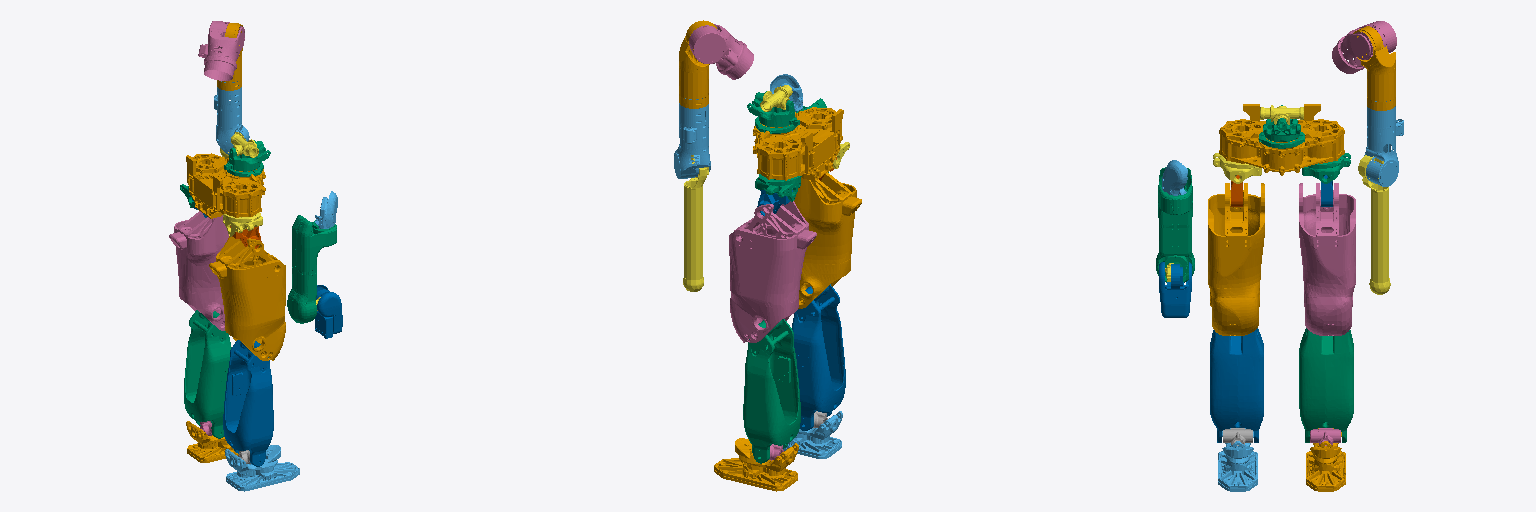
--- Render facts (derived) ---
The picture shows the robot from 3 angles, left to right: view 1: azimuth 30°, elevation 25°; view 2: azimuth 150°, elevation 25°; view 3: azimuth 270°, elevation 25°; orthographic projection.
Robot: nadia — 41 links, 40 joints (30 revolute, 10 fixed); root link PELVIS_LINK; default pose: all joints at 0.
Links seen in each view (by area): view 1: RIGHT_THIGH_LINK, RIGHT_SHIN_LINK, LEFT_THIGH_LINK, LEFT_SHIN_LINK, PELVIS_LINK, RIGHT_WRIST_YAW_LINK, RIGHT_FOOT_LINK, LEFT_SHOULDER_PITCH_LINK, LEFT_SHOULDER_YAW_LINK, RIGHT_WRIST_PITCH_LINK, LEFT_FOOT_LINK, SPINE_YAW_LINK (+3 smaller); view 2: LEFT_THIGH_LINK, LEFT_SHIN_LINK, RIGHT_THIGH_LINK, RIGHT_SHIN_LINK, PELVIS_LINK, LEFT_FOOT_LINK, LEFT_ELBOW_PITCH_LINK, LEFT_SHOULDER_PITCH_LINK, LEFT_SHOULDER_YAW_LINK, LEFT_SHOULDER_ROLL_LINK, RIGHT_FOOT_LINK, SPINE_YAW_LINK (+3 smaller); view 3: RIGHT_THIGH_LINK, LEFT_THIGH_LINK, LEFT_SHIN_LINK, RIGHT_SHIN_LINK, PELVIS_LINK, RIGHT_WRIST_YAW_LINK, LEFT_SHOULDER_YAW_LINK, LEFT_ELBOW_PITCH_LINK, LEFT_SHOULDER_ROLL_LINK, RIGHT_FOOT_LINK, LEFT_FOOT_LINK, LEFT_SHOULDER_PITCH_LINK (+6 smaller).
Link boxes in pixels (<box>): RIGHT_THIGH_LINK: <box>209,236,285,360</box>; RIGHT_SHIN_LINK: <box>223,340,273,466</box>; LEFT_THIGH_LINK: <box>169,211,228,330</box>; LEFT_SHIN_LINK: <box>184,310,231,438</box>; PELVIS_LINK: <box>186,153,265,218</box>; RIGHT_WRIST_YAW_LINK: <box>287,215,336,323</box>; RIGHT_FOOT_LINK: <box>225,445,299,491</box>; LEFT_SHOULDER_PITCH_LINK: <box>198,21,244,80</box>; LEFT_SHOULDER_YAW_LINK: <box>214,81,249,154</box>; RIGHT_WRIST_PITCH_LINK: <box>315,285,342,338</box>; LEFT_FOOT_LINK: <box>186,421,238,462</box>; SPINE_YAW_LINK: <box>224,140,270,176</box>; LEFT_THIGH_LINK: <box>729,201,816,342</box>; LEFT_SHIN_LINK: <box>743,319,800,463</box>; RIGHT_THIGH_LINK: <box>794,172,861,308</box>; RIGHT_SHIN_LINK: <box>792,284,845,430</box>; PELVIS_LINK: <box>753,107,843,180</box>; LEFT_FOOT_LINK: <box>714,438,798,491</box>; LEFT_ELBOW_PITCH_LINK: <box>683,155,708,291</box>; LEFT_SHOULDER_PITCH_LINK: <box>689,24,753,79</box>; LEFT_SHOULDER_YAW_LINK: <box>674,98,710,178</box>; LEFT_SHOULDER_ROLL_LINK: <box>679,20,716,108</box>; RIGHT_FOOT_LINK: <box>783,411,842,458</box>; SPINE_YAW_LINK: <box>747,91,799,133</box>; RIGHT_THIGH_LINK: <box>1208,183,1264,335</box>; LEFT_THIGH_LINK: <box>1299,183,1355,335</box>; LEFT_SHIN_LINK: <box>1299,328,1353,442</box>; RIGHT_SHIN_LINK: <box>1210,328,1263,442</box>; PELVIS_LINK: <box>1219,104,1344,175</box>; RIGHT_WRIST_YAW_LINK: <box>1156,167,1194,282</box>; LEFT_SHOULDER_YAW_LINK: <box>1364,100,1403,186</box>; LEFT_ELBOW_PITCH_LINK: <box>1358,155,1390,294</box>; LEFT_SHOULDER_ROLL_LINK: <box>1353,26,1395,110</box>; RIGHT_FOOT_LINK: <box>1218,428,1257,491</box>; LEFT_FOOT_LINK: <box>1306,428,1345,491</box>; LEFT_SHOULDER_PITCH_LINK: <box>1332,21,1396,73</box>.
Size in the robot's own frame: 0.3924 by 0.736 by 1.5 metres.
Meshes: 27 distinct files referenced, 23 mesh visuals loaded (21 OBJ); not drawn: 8 (reference not matched to a file when rendering).

The robot description file, URDF, robot "nadia":
<?xml version = "1.0" ?>
<robot name="nadia" xmlns:xacro="http://www.ros.org/wiki/xacro">

<!-- revolute joints -->
<joint name="LEFT_HIP_Z" type="revolute">
    <origin rpy="0 0 0" xyz="0 0.115 -0.07185" />
    <axis xyz="0 0 -1" />
    <parent link="PELVIS_LINK" />
    <child link="LEFT_HIP_YAW_LINK" />
    <limit effort="1000" lower="-0.7854" upper="0.7854" velocity = "100" />
    <dynamics damping="0.05" friction="0.0"/>
</joint>

<joint name="RIGHT_HIP_Z" type="revolute">
    <origin rpy="0 0 0" xyz="0 -0.115 -0.07185" />
    <axis xyz="0 0 -1" />
    <parent link="PELVIS_LINK" />
    <child link="RIGHT_HIP_YAW_LINK" />
    <limit effort="1000" lower="-0.7854" upper="0.7854" velocity = "100" />
    <dynamics damping="0.05" friction="0.0"/>
</joint>

<joint name="LEFT_HIP_X" type="revolute">
    <origin rpy="0 0 0" xyz="0.035 0.015 -0.04975" />
    <axis xyz="1 0 0" />
    <parent link="LEFT_HIP_YAW_LINK" />
    <child link="LEFT_HIP_ROLL_LINK" />
    <limit effort="1000" lower="-0.5236" upper="1.0472" velocity = "100" />
    <dynamics damping="0.05" friction="0.0"/>
</joint>

<joint name="RIGHT_HIP_X" type="revolute">
    <origin rpy="0 0 0" xyz="0.035 -0.015 -0.04975" />
    <axis xyz="1 0 0" />
    <parent link="RIGHT_HIP_YAW_LINK" />
    <child link="RIGHT_HIP_ROLL_LINK" />
    <limit effort="1000" lower="-1.0472" upper="0.5236" velocity = "100" />
    <dynamics damping="0.05" friction="0.0"/>
</joint>

<joint name="LEFT_HIP_Y" type="revolute">
    <origin rpy="0 0 0" xyz="0 0 -0.079068" />
    <axis xyz="0 1 0" />
    <parent link="LEFT_HIP_ROLL_LINK" />
    <child link="LEFT_THIGH_LINK" />
    <limit effort="1000" lower="-1.57" upper="0.314" velocity = "100" />
    <dynamics damping="0.05" friction="0.0"/>
</joint>

<joint name='LEFT_KNEE_Y' type='revolute'>
    <origin rpy="0 0 0" xyz="0 0 -0.38" />
    <axis xyz="0 1 0" />
    <parent link="LEFT_THIGH_LINK" />
    <child link="LEFT_SHIN_LINK" />
    <limit effort="350" lower="0" upper="2.62" velocity = "100" />
    <dynamics damping="0.05" friction="0.0"/>
</joint>

<joint name="RIGHT_HIP_Y" type="revolute">
    <origin rpy="0 0 0" xyz="0 0 -0.079068" />
    <axis xyz="0 1 0" />
    <parent link="RIGHT_HIP_ROLL_LINK" />
    <child link="RIGHT_THIGH_LINK" />
    <limit effort="1000" lower="-1.57" upper="0.314" velocity = "100" />
    <dynamics damping="0.05" friction="0.0"/>
</joint>

<joint name='RIGHT_KNEE_Y' type='revolute'>
    <origin rpy="0 0 0" xyz="0 0 -0.38" />
    <axis xyz="0 1 0" />
    <parent link="RIGHT_THIGH_LINK" />
    <child link="RIGHT_SHIN_LINK" />
    <limit effort="350" lower="0" upper="2.62" velocity = "100" />
    <dynamics damping="0.05" friction="0.0"/>
</joint>

<joint name="LEFT_ANKLE_Y" type="revolute">
    <origin rpy="0 0 0" xyz="-0.00830222 0 -0.40213938" />
    <axis xyz="0 1 0" />
    <parent link="LEFT_SHIN_LINK" />
    <child link="LEFT_ANKLE_LINK" />
    <limit effort="1000" lower="-1.0472" upper="0.698132" velocity = "100" />
    <dynamics damping="0.05" friction="0.0"/>
</joint>

<joint name="RIGHT_ANKLE_Y" type="revolute">
    <origin rpy="0 0 0" xyz="-0.00830222 0 -0.40213938" />
    <axis xyz="0 1 0" />
    <parent link="RIGHT_SHIN_LINK" />
    <child link="RIGHT_ANKLE_LINK" />
    <limit effort="1000" lower="-1.0472" upper="0.698132" velocity = "100" />
    <dynamics damping="0.05" friction="0.0"/>
</joint>

<joint name="LEFT_ANKLE_X" type="revolute">
    <origin rpy="0 0 0" xyz="0 0 -0.01" />
    <axis xyz="1 0 0" />
    <parent link="LEFT_ANKLE_LINK" />
    <child link="LEFT_FOOT_LINK" />
    <limit effort="1000" lower="-0.436332" upper="0.436332" velocity = "100" />
    <dynamics damping="0.05" friction="0.0"/>
</joint>

<joint name="RIGHT_ANKLE_X" type="revolute">
    <origin rpy="0 0 0" xyz="0 0 -0.01" />
    <axis xyz="1 0 0" />
    <parent link="RIGHT_ANKLE_LINK" />
    <child link="RIGHT_FOOT_LINK" />
    <limit effort="1000" lower="-0.436332" upper="0.436332" velocity = "100" />
    <dynamics damping="0.05" friction="0.0"/>
</joint>

<joint name="SPINE_Z" type="revolute">
    <origin rpy="0 0 0" xyz="0.08 0 0.00635" />
    <axis xyz="0 0 1" />
    <parent link="PELVIS_LINK" />
    <child link="SPINE_YAW_LINK" />
    <limit effort="1000" lower="-1.0472" upper="1.0472" velocity = "100" />
    <dynamics damping="0.05" friction="0.0"/>
</joint>

<joint name="SPINE_X" type="revolute">
    <origin rpy="0 0 0" xyz="0 0 0.08205" />
    <axis xyz="1 0 0" />
    <parent link="SPINE_YAW_LINK" />
    <child link="SPINE_ROLL_LINK" />
    <limit effort="1000" lower="-0.523599" upper="0.523599" velocity = "100" />
    <dynamics damping="0.05" friction="0.0"/>
</joint>

<joint name="SPINE_Y" type="revolute">
    <origin rpy="0 0 0" xyz="0 0 0.01" />
    <axis xyz="0 1 0" />
    <parent link="SPINE_ROLL_LINK" />
    <child link="TORSO_LINK" />
    <limit effort="1000" lower="-1.0472" upper="1.0472" velocity = "100" />
    <dynamics damping="0.05" friction="0.0"/>
</joint>


<!-- links -->
<link name="PELVIS_LINK">
  <inertial>
    <mass value="19.0917"/>
    <origin rpy="0 0 0" xyz="0.02073086 2.023E-05 -0.0309812"/>
    <inertia ixx="0.0942" ixy="6.05E-06" ixz="0.000379" iyy="0.0416" iyz="3.37E-07" izz="0.112" />
  </inertial>
  <visual>
    <geometry>
      <mesh filename="package://nadia_V16_description/meshes/pelvis.obj"/>
    </geometry>
    <origin rpy="0.0 0.0 0.0" xyz="0.0 0.0 0.0"/>
  </visual>
</link>

<!-- pelvis_stim_imu -->
  <joint name="PELVIS_STIM_IMU_JOINT" type="fixed">
    <parent link="PELVIS_LINK"/>
    <child link="PELVIS_STIM_IMU_LINK"/>
    <origin xyz="-0.03133646 0.02237500 -0.07000000" rpy="0.0 3.141592 0.0"/>
  </joint>

  <link name="PELVIS_STIM_IMU_LINK">
    <inertial>
      <mass value="0.0" />
      <origin xyz="0 0 0" rpy="0 0 0" />
      <inertia ixx="0.0" ixy="0.0" ixz="0.0" iyy="0.0" iyz="0.0" izz="0.0" />
    </inertial>
  </link>

  <gazebo reference="PELVIS_STIM_IMU_LINK">
    <sensor name="pelvis_stim_imu" type="imu">
      <always_on>1</always_on>
      <update_rate>1000.0</update_rate>
      <imu>
        <noise>
          <type>gaussian</type>
          <rate>
            <mean>0.0</mean>
            <stddev>2e-4</stddev>
            <bias_mean>0.0000075</bias_mean>
            <bias_stddev>0.0000008</bias_stddev>
          </rate>
          <accel>
            <mean>0.0</mean>
            <stddev>1.7e-2</stddev>
            <bias_mean>0.1</bias_mean>
            <bias_stddev>0.001</bias_stddev>
          </accel>
        </noise>
      </imu>
    </sensor>
  </gazebo>
 <!-- end pelvis stim imu -->

<link name="LEFT_HIP_YAW_LINK">
  <inertial>
    <mass value="1.814"/>
    <origin rpy="0 0 0" xyz="-0.00629727 0.00606893 -0.03971844"/>
    <inertia ixx="0.004741914" ixy="0.000527" ixz="-0.000307" iyy="0.00414" iyz="1.36E-05" izz="0.00569" />
  </inertial>
  <visual>
    <geometry>
      <mesh filename="package://nadia_V16_description/meshes/left_hip_yaw.obj"/>
    </geometry>
    <origin rpy="0.0 0.0 0.0" xyz="0.0 0.0 0.0"/>
  </visual>
</link>

<link name="RIGHT_HIP_YAW_LINK">
  <inertial>
    <mass value="1.814"/>
    <origin rpy="0 0 0" xyz="-0.00629727 -0.00606893 -0.03971844"/>
    <inertia ixx="0.004741914" ixy="-0.000527" ixz="-0.000307" iyy="0.00414" iyz="-1.36E-05" izz="0.00569" />
  </inertial>
  <visual>
    <geometry>
      <mesh filename="package://nadia_V16_description/meshes/right_hip_yaw.obj"/>
    </geometry>
    <origin rpy="0.0 0.0 0.0" xyz="0.0 0.0 0.0"/>
  </visual>
</link>

<link name="LEFT_HIP_ROLL_LINK">
  <inertial>
    <mass value="0.762"/>
    <origin rpy="0 0 0" xyz="-0.01327037 0.00316985 -0.05399997"/>
    <inertia ixx="0.001028994" ixy="-9.31E-06" ixz="0.000352" iyy="0.00138" iyz="3.22E-05" izz="0.000663" />
  </inertial>
  <visual>
    <geometry>
      <mesh filename="package://nadia_V16_description/meshes/left_hip_roll.obj"/>
    </geometry>
    <origin rpy="0.0 0.0 0.0" xyz="0.0 0.0 0.0"/>
  </visual>
</link>

<link name="RIGHT_HIP_ROLL_LINK">
  <inertial>
    <mass value="0.762"/>
    <origin rpy="0 0 0" xyz="-0.01327037 -0.00316985 -0.05399997"/>
    <inertia ixx="0.001028994" ixy="9.31E-06" ixz="0.000352" iyy="0.00138" iyz="-3.22E-05" izz="0.000663" />
  </inertial>
  <visual>
    <geometry>
      <mesh filename="package://nadia_V16_description/meshes/right_hip_roll.obj"/>
    </geometry>
    <origin rpy="0.0 0.0 0.0" xyz="0.0 0.0 0.0"/>
  </visual>
</link>

<link name="LEFT_THIGH_LINK">
  <inertial>
    <mass value="10.953"/>
    <origin rpy="0 0 0" xyz="-0.00093749 0.01134511 -0.17863144"/>
    <inertia ixx="0.1622268263" ixy="-0.000749" ixz="0.0156" iyy="0.174" iyz="0.00213" izz="0.0528" />
  </inertial>
  <visual>
    <geometry>
      <mesh filename="package://nadia_V16_description/meshes/left_thigh.obj"/>
    </geometry>
    <origin rpy="0.0 0.0 0.0" xyz="0.0 0.0 0.0"/>
  </visual>
</link>

<!-- left thigh imu -->
  <joint name="LEFT_THIGH_IMU_JOINT" type="fixed">
    <parent link="LEFT_THIGH_LINK"/>
    <child link="LEFT_THIGH_IMU_LINK"/>
    <origin xyz="0.05793744 0.01666131 -0.09511697" rpy="2.025  0.000 -1.571"/>  
  </joint>

  <link name="LEFT_THIGH_IMU_LINK">
    <inertial>
      <mass value="0.0" />
      <origin xyz="0 0 0" rpy="0 0 0" />
      <inertia ixx="0.0" ixy="0.0" ixz="0.0" iyy="0.0" iyz="0.0" izz="0.0" />
    </inertial>
  </link>

  <gazebo reference="LEFT_THIGH_IMU_LINK">
    <sensor name="left_thigh_imu" type="imu">
      <always_on>1</always_on>
      <update_rate>1000.0</update_rate>
      <imu>
        <noise>
          <type>gaussian</type>
          <rate>
            <mean>0.0</mean>
            <stddev>2e-4</stddev>
            <bias_mean>0.0000075</bias_mean>
            <bias_stddev>0.0000008</bias_stddev>
          </rate>
          <accel>
            <mean>0.0</mean>
            <stddev>1.7e-2</stddev>
            <bias_mean>0.1</bias_mean>
            <bias_stddev>0.001</bias_stddev>
          </accel>
        </noise>
      </imu>
    </sensor>
  </gazebo>
<!-- end left thigh imu -->

<link name="RIGHT_THIGH_LINK">
  <inertial>
    <mass value="10.953"/>
    <origin rpy="0 0 0" xyz="-0.00093749 -0.01134511 -0.17863144"/>
    <inertia ixx="0.1622268263" ixy="0.000749" ixz="0.0156" iyy="0.174" iyz="-0.00213" izz="0.0528" />
  </inertial>
  <visual>
    <geometry>
      <mesh filename="package://nadia_V16_description/meshes/right_thigh.obj"/>
    </geometry>
    <origin rpy="0.0 0.0 0.0" xyz="0.0 0.0 0.0"/>
  </visual>
</link>

<!-- right thigh imu -->
  <joint name="RIGHT_THIGH_IMU_JOINT" type="fixed">
    <parent link="RIGHT_THIGH_LINK"/>
    <child link="RIGHT_THIGH_IMU_LINK"/>
    <origin xyz="0.05793670 0.01066129 -0.09511742" rpy="2.025  0.000 -1.571"/>  
  </joint>

  <link name="RIGHT_THIGH_IMU_LINK">
    <inertial>
      <mass value="0.0" />
      <origin xyz="0 0 0" rpy="0 0 0" />
      <inertia ixx="0.0" ixy="0.0" ixz="0.0" iyy="0.0" iyz="0.0" izz="0.0" />
    </inertial>
  </link>

  <gazebo reference="RIGHT_THIGH_IMU_LINK">
    <sensor name="right_thigh_imu" type="imu">
      <always_on>1</always_on>
      <update_rate>1000.0</update_rate>
      <imu>
        <noise>
          <type>gaussian</type>
          <rate>
            <mean>0.0</mean>
            <stddev>2e-4</stddev>
            <bias_mean>0.0000075</bias_mean>
            <bias_stddev>0.0000008</bias_stddev>
          </rate>
          <accel>
            <mean>0.0</mean>
            <stddev>1.7e-2</stddev>
            <bias_mean>0.1</bias_mean>
            <bias_stddev>0.001</bias_stddev>
          </accel>
        </noise>
      </imu>
    </sensor>
  </gazebo>
<!-- end right thigh imu -->

<link name="LEFT_SHIN_LINK">
  <inertial>
    <mass value="5.42"/>
    <origin rpy="0 0 0" xyz="-0.01841492 0.00228086 -0.22054239"/>
    <inertia ixx="0.064437783" ixy="-0.000214" ixz="-0.00538" iyy="0.0583" iyz="-0.000962" izz="0.0136" />
  </inertial>
  <visual>
    <geometry>
      <mesh filename="package://nadia_V16_description/meshes/left_shin.obj"/>
    </geometry>
    <origin rpy="0.0 0.0 0.0" xyz="0.0 0.0 0.0"/>
  </visual>
</link>


<!-- left shin imu -->
  <joint name="LEFT_SHIN_IMU_JOINT" type="fixed">
    <parent link="LEFT_SHIN_LINK"/>
    <child link="LEFT_SHIN_IMU_LINK"/>
    <origin xyz="-0.03216129 -0.07159184 -0.1864738" rpy="-1.570796 0.0 0.0"/>  
  </joint>

  <link name="LEFT_SHIN_IMU_LINK">
    <inertial>
      <mass value="0.0" />
      <origin xyz="0 0 0" rpy="0 0 0" />
      <inertia ixx="0.0" ixy="0.0" ixz="0.0" iyy="0.0" iyz="0.0" izz="0.0" />
    </inertial>
  </link>

  <gazebo reference="LEFT_SHIN_IMU_LINK">
    <sensor name="left_shin_imu" type="imu">
      <always_on>1</always_on>
      <update_rate>1000.0</update_rate>
      <imu>
        <noise>
          <type>gaussian</type>
          <rate>
            <mean>0.0</mean>
            <stddev>2e-4</stddev>
            <bias_mean>0.0000075</bias_mean>
            <bias_stddev>0.0000008</bias_stddev>
          </rate>
          <accel>
            <mean>0.0</mean>
            <stddev>1.7e-2</stddev>
            <bias_mean>0.1</bias_mean>
            <bias_stddev>0.001</bias_stddev>
          </accel>
        </noise>
      </imu>
    </sensor>
  </gazebo>
<!-- end left shin imu -->

<link name="RIGHT_SHIN_LINK">
  <inertial>
    <mass value="5.42"/>
    <origin rpy="0 0 0" xyz="-0.01837047 -0.00241134 -0.21991278"/>
    <inertia ixx="0.064443143" ixy="0.000202" ixz="-0.00539" iyy="0.0583" iyz="0.000906" izz="0.0136" />
  </inertial>
  <visual>
    <geometry>
      <mesh filename="package://nadia_V16_description/meshes/right_shin.obj"/>
    </geometry>
    <origin rpy="0.0 0.0 0.0" xyz="0.0 0.0 0.0"/>
  </visual>
</link>

<!-- right shin imu -->
  <joint name="RIGHT_SHIN_IMU_JOINT" type="fixed">
    <parent link="RIGHT_SHIN_LINK"/>
    <child link="RIGHT_SHIN_IMU_LINK"/>
    <origin xyz="-0.002838710 0.07159142 -0.1864738" rpy="-1.570796 0.0 3.141592"/>  
  </joint>

  <link name="RIGHT_SHIN_IMU_LINK">
    <inertial>
      <mass value="0.0" />
      <origin xyz="0 0 0" rpy="0 0 0" />
      <inertia ixx="0.0" ixy="0.0" ixz="0.0" iyy="0.0" iyz="0.0" izz="0.0" />
    </inertial>
  </link>

  <gazebo reference="RIGHT_SHIN_IMU_LINK">
    <sensor name="right_shin_imu" type="imu">
      <always_on>1</always_on>
      <update_rate>1000.0</update_rate>
      <imu>
        <noise>
          <type>gaussian</type>
          <rate>
            <mean>0.0</mean>
            <stddev>2e-4</stddev>
            <bias_mean>0.0000075</bias_mean>
            <bias_stddev>0.0000008</bias_stddev>
          </rate>
          <accel>
            <mean>0.0</mean>
            <stddev>1.7e-2</stddev>
            <bias_mean>0.1</bias_mean>
            <bias_stddev>0.001</bias_stddev>
          </accel>
        </noise>
      </imu>
    </sensor>
  </gazebo>
<!-- end right shin imu -->

<link name="LEFT_ANKLE_LINK">
  <inertial>
    <mass value="0.56"/>
    <origin rpy="0 0 0" xyz="-0.00072338 -6.619E-05 -0.00399965"/>
    <inertia ixx="0.000459" ixy="2.65E-08" ixz="-2.43E-06" iyy="0.000336" iyz="1.48E-07" izz="0.000645" />
  </inertial>
  <visual>
    <geometry>
      <mesh filename="package://nadia_V16_description/meshes/ankle.obj"/>
    </geometry>
    <origin rpy="0.0 0.0 0.0" xyz="0.0 0.0 0.0"/>
  </visual>
</link>

<link name="RIGHT_ANKLE_LINK">
  <inertial>
    <mass value="0.56"/>
    <origin rpy="0 0 0" xyz="-0.00072338 6.619E-05 -0.00399965"/>
    <inertia ixx="0.000459" ixy="-2.65E-08" ixz="-2.43E-06" iyy="0.000336" iyz="-1.48E-07" izz="0.000645" />
  </inertial>
  <visual>
    <geometry>
      <mesh filename="package://nadia_V16_description/meshes/ankle.obj"/>
    </geometry>
    <origin rpy="0.0 0.0 0.0" xyz="0.0 0.0 0.0"/>
  </visual>
</link>

<link name="LEFT_FOOT_LINK">
  <inertial>
    <mass value="1.75"/>
    <origin rpy="0 0 0" xyz="0.03075449 0.00007807 -0.04382467"/>
    <inertia ixx="0.00345011" ixy="-0.0000073" ixz="0.0014225" iyy="0.00955764" iyz="-2.269e-7" izz="0.00881313" />
  </inertial>
  <visual>
    <geometry>
      <mesh filename="package://nadia_V16_description/meshes/foot.obj"/>
    </geometry>
    <origin rpy="0.0 0.0 0.0" xyz="0.0 0.0 0.0"/>
  </visual>
</link>

<link name="RIGHT_FOOT_LINK">
  <inertial>
    <mass value="1.75"/>
    <origin rpy="0 0 0" xyz="0.032048 4e-06 -0.028422"/>
    <inertia ixx="0.00345011" ixy="-0.0000073" ixz="0.0014225" iyy="0.00955764" iyz="-2.269e-7" izz="0.00881313" />
  </inertial>
  <visual>
    <geometry>
      <mesh filename="package://nadia_V16_description/meshes/foot.obj"/>
    </geometry>
    <origin rpy="0.0 0.0 0.0" xyz="0.0 0.0 0.0"/>
  </visual>
</link>

<link name="SPINE_YAW_LINK">
  <inertial>
    <mass value="0.91"/>
    <origin rpy="0 0 0" xyz="-0.00853118 -2.697E-05 0.03791445"/>
    <inertia ixx="0.00374289408" ixy="1.25497934E-07" ixz="0.000271325072" iyy="0.00403002777" iyz="-1.38015692E-07" izz="0.0062129847" />
  </inertial>
  <visual>
    <geometry>
      <mesh filename="package://nadia_V16_description/meshes/spine_yaw.obj"/>
    </geometry>
    <origin rpy="0.0 0.0 0.0" xyz="0.0 0.0 0.0"/>
  </visual>
</link>

<link name="SPINE_ROLL_LINK">
  <inertial>
    <mass value="0.44"/>
    <origin rpy="0 0 0" xyz="-0.01904983 7E-08 0.01979244"/>
    <inertia ixx="0.000373262301" ixy="-1.51441878E-10" ixz="-6.69067307E-05" iyy="0.000649978475" iyz="-1.27858402E-10" izz="0.000419408851" />
  </inertial>
  <visual>
    <geometry>
      <mesh filename="package://nadia_V16_description/meshes/spine_roll.obj"/>
    </geometry>
    <origin rpy="0.0 0.0 0.0" xyz="0.0 0.0 0.0"/>
  </visual>
</link>

<link name="TORSO_LINK">
  <inertial>
    <mass value="13.5"/>
    <origin rpy="0 0 0" xyz="-0.03613868 -2.81E-06 0.25908586"/>
    <inertia ixx="0.534504681" ixy="8.41519717E-05" ixz="-0.00672956305" iyy="0.505409852" iyz="0.000207996773" izz="0.379402013" />
  </inertial>
  <visual>
    <geometry>
      <mesh filename="package://nadia_V16_description/meshes/torso_cycloidmounts.obj"/>
    </geometry>
    <origin rpy="0.0 0.0 0.0" xyz="0.0 0.0 0.0"/>
  </visual>
</link>

<!-- torso imu -->
  <joint name="TORSO_IMU_JOINT" type="fixed">
    <parent link="TORSO_LINK"/>
    <child link="TORSO_IMU_LINK"/>
    <origin xyz="0.04529 -0.02427 0.33757" rpy="3.141592 0 0"/>  
  </joint>

  <link name="TORSO_IMU_LINK">
    <inertial>
      <mass value="0.0" />
      <origin xyz="0 0 0" rpy="0 0 0" />
      <inertia ixx="0.0" ixy="0.0" ixz="0.0" iyy="0.0" iyz="0.0" izz="0.0" />
    </inertial>
  </link>

  <gazebo reference="TORSO_IMU_LINK">
    <sensor name="torso_imu" type="imu">
      <always_on>1</always_on>
      <update_rate>1000.0</update_rate>
      <imu>
        <noise>
          <type>gaussian</type>
          <rate>
            <mean>0.0</mean>
            <stddev>2e-4</stddev>
            <bias_mean>0.0000075</bias_mean>
            <bias_stddev>0.0000008</bias_stddev>
          </rate>
          <accel>
            <mean>0.0</mean>
            <stddev>1.7e-2</stddev>
            <bias_mean>0.1</bias_mean>
            <bias_stddev>0.001</bias_stddev>
          </accel>
        </noise>
      </imu>
    </sensor>
  </gazebo>
<!-- end torso imu -->

<!-- left arm -->
<joint name="LEFT_SHOULDER_Y" type="revolute">
    <origin xyz="0.001 0.185 0.173" rpy="0.785398163 0.0 -0.785398163"   />
    <axis xyz="0.0 1.0 0.0" />
    <parent link="TORSO_LINK" />
    <child link="LEFT_SHOULDER_PITCH_LINK" />
    <limit effort="1000" lower="-3.141592" upper="1.22173" velocity = "100" />
    <dynamics damping="0.05" friction="0.0"/>
</joint>
<joint name="LEFT_SHOULDER_X" type="revolute">
    <origin rpy="-0.785398163 0.0 0.0" xyz="0.0 0.15676000 -0.01300000" />
    <axis xyz="1 0 0" />
    <parent link="LEFT_SHOULDER_PITCH_LINK" />
    <child link="LEFT_SHOULDER_ROLL_LINK" />
    <limit effort="1000" lower="-0.261799" upper="2.87979" velocity = "100" />
    <dynamics damping="0.05" friction="0.0"/>
</joint>
<joint name="LEFT_SHOULDER_Z" type="revolute">
    <origin rpy="0.0 0.0 0.0" xyz="0.0 0.035 0.0" />
    <axis xyz="0.0 0.0 1.0" />
    <parent link="LEFT_SHOULDER_ROLL_LINK" />
    <child link="LEFT_SHOULDER_YAW_LINK" />
    <limit effort="1000" lower="-1.91986" upper="1.22173" velocity = "100" />
    <dynamics damping="0.05" friction="0.0"/>
</joint>
<joint name="LEFT_ELBOW_Y" type="revolute">
    <origin xyz="0.02 1.6999999999945464E-5 -0.39999999999999997" rpy="0.0 0.0 0.0"/>
    <axis xyz="0.0 0.9999999990755 4.29999999602465E-5"/>
    <parent link="LEFT_SHOULDER_YAW_LINK"/>
    <child link="LEFT_ELBOW_PITCH_LINK"/>
    <dynamics damping="0.05" friction="0.0"/>
    <limit effort="1000.0" lower="-2.79253" upper="0.1" velocity="100.0"/>
</joint>
<!-- TMOTOR FOREARM
<joint name="LEFT_WRIST_Z" type="revolute">
    <origin xyz="-0.02499999999999997 0.024999999999999988 3.0000000000012566E-6" rpy="0.0 0.0 0.785398163"/>
    <axis xyz="4.399999991673E-5 -4.2999999918622504E-5 0.9999999981075001"/>
    <parent link="LEFT_ELBOW_PITCH_LINK"/>
    <child link="LEFT_WRIST_YAW_LINK"/>
    <dynamics damping="0.05" friction="0.0"/>
    <limit effort="1000.0" lower="-2.35619" upper="1.5708" velocity="100.0"/>
</joint>
<joint name="LEFT_WRIST_X" type="revolute">
    <origin xyz="-1.600000000000251E-5 1.500000000011154E-5 -0.3515" rpy="0.0 0.0 0.0"/>
    <axis xyz="0.9999999990320001 0.0 -4.3999999957408004E-5"/>
    <parent link="LEFT_WRIST_YAW_LINK"/>
    <child link="LEFT_WRIST_ROLL_LINK"/>
    <dynamics damping="0.05" friction="0.0"/>
    <limit effort="1000.0" lower="-2.61799" upper="2.61799" velocity="100.0"/>
</joint>
<joint name="LEFT_WRIST_Y" type="revolute">
    <origin xyz="0.0 0.0 0.0" rpy="0.0 0.0 0.0"/>
    <axis xyz="4.2999999920492997E-5 0.9999999981509999 4.2999999920492997E-5"/>
    <parent link="LEFT_WRIST_ROLL_LINK"/>
    <child link="LEFT_WRIST_PITCH_LINK"/>
    <dynamics damping="0.05" friction="0.0"/>
    <limit effort="1000.0" lower="-3.14159" upper="0.249066" velocity="100.0"/>
</joint>
<joint name="LEFT_GRIPPER_X1" type="revolute">
    <origin xyz="0.0 0.03 -0.11" rpy="-0.25 0.0 0.0"/>
    <axis xyz="1.0 0.0 0.0"/>
    <parent link="LEFT_WRIST_PITCH_LINK"/>
    <child link="LEFT_GRIPPER_ROLL1_LINK"/>
    <dynamics damping="0.05" friction="0.0"/>
    <limit effort="1.0" lower="-0.06" upper="1.9" velocity="3.67"/>
</joint>
<joint name="LEFT_GRIPPER_X1_TIP" type="revolute">
    <origin xyz="0.0 0.0 -0.052" rpy="0.0 0.0 0.0"/>
    <axis xyz="1.0 0.0 0.0"/>
    <parent link="LEFT_GRIPPER_ROLL1_LINK"/>
    <child link="LEFT_GRIPPER_ROLL1_TIP_LINK"/>
    <dynamics damping="0.05" friction="0.0"/>
    <limit effort="1.0" lower="-1.0" upper="0.0" velocity="3.67"/>
</joint>
<joint name="LEFT_GRIPPER_X2" type="revolute">
    <origin xyz="0.0 -0.03 -0.11" rpy="0.25 0.0 0.0"/>
    <axis xyz="-1.0 0.0 0.0"/>
    <parent link="LEFT_WRIST_PITCH_LINK"/>
    <child link="LEFT_GRIPPER_ROLL2_LINK"/>
    <dynamics damping="0.05" friction="0.0"/>
    <limit effort="1.0" lower="-0.06" upper="1.9" velocity="3.67"/>
</joint>
<joint name="LEFT_GRIPPER_X2_TIP" type="revolute">
    <origin xyz="0.0 0.0 -0.052" rpy="0.0 0.0 0.0"/>
    <axis xyz="-1.0 0.0 0.0"/>
    <parent link="LEFT_GRIPPER_ROLL2_LINK"/>
    <child link="LEFT_GRIPPER_ROLL2_TIP_LINK"/>
    <dynamics damping="0.05" friction="0.0"/>
    <limit effort="1.0" lower="-1.0" upper="0.0" velocity="3.67"/>
</joint>
-->

<link name="LEFT_SHOULDER_PITCH_LINK">
  <inertial>
    <mass value="2.917"/>
    <origin rpy="0 0 0" xyz="-0.00117 0.1400097 -0.00621"/>
    <inertia ixx="0.0108367" ixy="1.356e-4" ixz="-2.666e-5" iyy="0.00498324" iyz="0.00090758" izz="0.01142661" />
  </inertial>
  <visual>
    <geometry>
      <mesh filename="package://nadia_V17_description/meshes/cycloidal_arm/LEFT_SHOULDER_PITCH_LINK.obj"/>
    </geometry>
    <origin rpy="0.0 0.0 0.0" xyz="0.0 0.0 0.0"/>
  </visual>
</link>

<!-- LEFT SHOULDER PITCH IMU Information -->
<joint name="LEFT_SHOULDER_PITCH_IMU_JOINT" type="fixed">
	<origin rpy="-1.570796 1.570796 0" xyz="0.0174 0.06944 -0.03025"/>
	<axis xyz="0 0 1"/>
	<parent link="LEFT_SHOULDER_PITCH_LINK"/>
	<child link="LEFT_SHOULDER_PITCH_IMU_LINK"/>
</joint>

<link name="LEFT_SHOULDER_PITCH_IMU_LINK">
    <inertial>
      <mass value="0"/>
      <origin rpy="0 0 0" xyz="0 0 0"/>
      <inertia ixx="0.0" ixy="0.0" ixz="0.0" iyy="0.0" iyz="0.0" izz="0.0"/>
    </inertial>
</link>

<gazebo reference="LEFT_SHOULDER_PITCH_IMU_LINK">
	<sensor name="left_shoulder_pitch_imu" type="imu">
	  <imuTransform>0.0174 0.06944 -0.03025 -1.570796 1.570796 0</imuTransform>
	  <always_on>true</always_on>
	  <pose>0 0 0 0 0 0 </pose>
	  <imu>
		<noise>
		  <type>gaussian</type>
		  <rate>
			<mean>0</mean>
			<stddev>0.0002</stddev>
			<bias_mean>7.5e-06</bias_mean>
			<bias_stddev>8e-07</bias_stddev>
		  </rate>
		  <accel>
			<mean>0</mean>
			<stddev>0.017</stddev>
			<bias_mean>0.1</bias_mean>
			<bias_stddev>0.001</bias_stddev>
		  </accel>
		</noise>
	  </imu>
	</sensor>
</gazebo>

<link name="LEFT_SHOULDER_ROLL_LINK">
  <inertial>
    <mass value="1.17068"/>
    <origin rpy="0 0 0" xyz="0.01053 0.02124 -0.1052690"/>
    <inertia ixx="0.00787035" ixy="1.667e-4" ixz="-0.00075945" iyy="0.00727481" iyz="0.000988837" izz="0.00182144" />
  </inertial>
  <visual>
    <geometry>
      <mesh filename="package://nadia_V17_description/meshes/cycloidal_arm/LEFT_SHOULDER_ROLL_LINK.obj"/>
    </geometry>
    <origin rpy="0.0 0.0 0.0" xyz="0.0 0.0 0.0"/>
  </visual>
</link>

<link name="LEFT_SHOULDER_YAW_LINK">
  <inertial>
    <mass value="2.53059"/>
    <origin rpy="0 0 0" xyz="0.00479 0.00062 -0.3624141"/>
    <inertia ixx="0.02277422" ixy="5.053e-5" ixz="0.0012266" iyy="0.0225956" iyz="-2.571e-4" izz="0.00260312" />
  </inertial>
  <visual>
    <geometry>
      <mesh filename="package://nadia_V17_description/meshes/cycloidal_arm/LEFT_SHOULDER_YAW_LINK.obj"/>
    </geometry>
    <origin rpy="0.0 0.0 0.0" xyz="0.0 0.0 0.0"/>
  </visual>
</link>

<!-- Left Shoulder Yaw IMU -->
<joint name="LEFT_SHOULDER_YAW_IMU_JOINT" type="fixed">
	<origin rpy="-1.570796 3.1415926 -0.314159" xyz="-0.00763459 -0.0123324 -0.318"/>
	<axis xyz="0 0 1"/>
	<parent link="LEFT_SHOULDER_YAW_LINK"/>
	<child link="LEFT_SHOULDER_YAW_IMU_LINK"/>
</joint>

<link name="LEFT_SHOULDER_YAW_IMU_LINK">
    <inertial>
      <mass value="0"/>
      <origin rpy="0 0 0" xyz="0 0 0"/>
      <inertia ixx="0.0" ixy="0.0" ixz="0.0" iyy="0.0" iyz="0.0" izz="0.0"/>
    </inertial>
 </link>

<gazebo reference="LEFT_SHOULDER_YAW_IMU_LINK">
<sensor name="left_shoulder_yaw_imu" type="imu">
  <imuTransform>-0.00763459 -0.0123324 -0.318 -1.570796 3.1415926 -0.314159</imuTransform>
  <always_on>true</always_on>
  <pose>0 0 0 0 0 0 </pose>
  <imu>
	<noise>
	  <type>gaussian</type>
	  <rate>
		<mean>0</mean>
		<stddev>0.0002</stddev>
		<bias_mean>7.5e-06</bias_mean>
		<bias_stddev>8e-07</bias_stddev>
	  </rate>
	  <accel>
		<mean>0</mean>
		<stddev>0.017</stddev>
		<bias_mean>0.1</bias_mean>
		<bias_stddev>0.001</bias_stddev>
	  </accel>
	</noise>
  </imu>
</sensor>
</gazebo>

<link name="LEFT_ELBOW_PITCH_LINK">
    <inertial>

          <!-- Normal forearm knub -->
          <mass value="0.6007"/>
          <origin rpy="0 0 0" xyz="-0.01090935 -0.01147189 -0.10388715"/>
          <inertia ixx="0.00760733" ixy="2.242e-5" ixz="-2.583e-4" iyy="0.00767556" iyz="0.00061995" izz="4.554e-4" />

          <!-- 12lbs dumbbell -->
    <!--    <mass value="5.9"/>-->
    <!--    <origin rpy="0 0 0" xyz="0.05 0.0 -0.225"/>-->
    <!--    <inertia ixx="0.05" ixy="2.242e-5" ixz="-2.583e-4" iyy="0.015" iyz="0.00061995" izz="0.05" />-->

      </inertial>
      <visual>
        <geometry>
          <mesh filename="package://nadia_V17_description/meshes/cycloidal_arm/LEFT_ELBOW_PITCH_LINK_413mm_LENGTH.obj"/>
        </geometry>
        <origin rpy="0.0 0.0 0.0" xyz="0.0 0.0 0.0"/>
      </visual>

    <!-- TMOTOR FOREARM
    <inertial>
        <mass value="0.212707"/>
        <origin xyz="-0.016865 0.031501 -0.030482" rpy="0.0 0.0 0.0"/>
        <inertia ixx="2.2273594564052614E-4" ixy="1.0719705332594998E-6" ixz="-4.6074579489932846E-5" iyy="2.7199002075875133E-4" iyz="-2.3810882603721977E-7" izz="1.1761403360072248E-4"/>
    </inertial>
    <visual name="LEFT_ELBOW_PITCH_LINK_visual">
        <origin xyz="0.0 0.0 0.0" rpy="0.0 0.0 0.0"/>
        <geometry>
            <mesh filename="models/nadia_V16_description/meshes/left_elbow_pitch.obj"/>
        </geometry>
    </visual>
    -->
</link>

<!-- TMOTOR FOREARM
<link name="LEFT_WRIST_YAW_LINK">
    <inertial>
        <mass value="1.435"/>
        <origin xyz="-0.04940474486494003 -3.964538356282111E-4 -0.19874584361487008" rpy="0.0 0.0 0.0"/>
        <inertia ixx="0.02002815285270066" ixy="-5.163355046878148E-6" ixz="-0.0039452311180198305" iyy="0.021487604642478533" iyz="-5.358378992412958E-5" izz="0.0029627625048208052"/>
    </inertial>
    <visual name="LEFT_WRIST_YAW_LINK_visual">
        <origin xyz="0.0 0.0 0.0" rpy="4.300000000000001E-5 4.4E-5 0.0"/>
        <geometry>
            <mesh filename="models/nadia_V16_description/meshes/left_wrist_yaw.obj"/>
        </geometry>
    </visual>
</link>
<link name="LEFT_WRIST_ROLL_LINK">
    <inertial>
        <mass value="0.08878"/>
        <origin xyz="-0.03287193184083433 -0.015145066592998427 0.001549795130068882" rpy="0.0 0.0 0.0"/>
        <inertia ixx="1.65398231980855E-5" ixy="6.750103919487803E-6" ixz="-2.0085155788567436E-6" iyy="4.5509965794416366E-5" iyz="3.974816843416091E-7" izz="4.3680211007498124E-5"/>
    </inertial>
    <visual name="LEFT_WRIST_ROLL_LINK_visual">
        <origin xyz="0.0 0.0 0.0" rpy="4.300000000000001E-5 4.4E-5 0.0"/>
        <geometry>
            <mesh filename="models/nadia_V16_description/meshes/left_wrist_pitch.obj"/>
        </geometry>
    </visual>
</link>
<link name="LEFT_WRIST_PITCH_LINK">
    <inertial>
        <mass value="0.8528"/>
        <origin xyz="0.007032095144740738 0.0014326213388780535 -0.04468124787844118" rpy="0.0 0.0 0.0"/>
        <inertia ixx="0.0026793906490306762" ixy="5.385994961035149E-6" ixz="1.1574361507722923E-4" iyy="0.0026581942547868197" iyz="-5.477981166632129E-5" izz="6.730090961825026E-4"/>
    </inertial>
    <visual name="LEFT_WRIST_PITCH_LINK_visual">
        <origin xyz="0.0 0.0 0.0" rpy="-4.300000000000001E-5 -4.4E-5 3.14155"/>
        <geometry>
            <mesh filename="models/nadia_V16_description/meshes/left_wrist_roll_gripper.obj"/>
        </geometry>
    </visual>
</link>

<link name="LEFT_GRIPPER_ROLL1_LINK">
    <inertial>
        <mass value="0.05"/>
        <origin xyz="0.0 0.0 0.0" rpy="0.0 0.0 0.0"/>
        <inertia ixx="0.01" ixy="0.0" ixz="0.0" iyy="0.01" iyz="0.0" izz="0.01"/>
    </inertial>
    <visual name="LEFT_GRIPPER_ROLL1_LINK_visual">
        <origin xyz="0.0 0.0 0.0" rpy="1.571 0.0 3.142"/>
        <geometry>
            <mesh filename="models/nadia_V16_description/meshes/sake_finger_knuckle.obj"/>
        </geometry>
    </visual>
</link>
<link name="LEFT_GRIPPER_ROLL1_TIP_LINK">
    <inertial>
        <mass value="0.05"/>
        <origin xyz="0.0 0.0 0.0" rpy="0.0 0.0 0.0"/>
        <inertia ixx="0.01" ixy="0.0" ixz="0.0" iyy="0.01" iyz="0.0" izz="0.01"/>
    </inertial>
    <visual name="LEFT_GRIPPER_ROLL1_LINK_visual">
        <origin xyz="0.0 0.0 0.0" rpy="1.571 0.0 3.142"/>
        <geometry>
            <mesh filename="models/nadia_V16_description/meshes/sake_finger_tip.obj"/>
        </geometry>
    </visual>
</link>
<link name="LEFT_GRIPPER_ROLL2_LINK">
    <inertial>
        <mass value="0.05"/>
        <origin xyz="0.0 0.0 0.0" rpy="0.0 0.0 0.0"/>
        <inertia ixx="0.01" ixy="0.0" ixz="0.0" iyy="0.01" iyz="0.0" izz="0.01"/>
    </inertial>
    <visual name="LEFT_GRIPPER_ROLL2_LINK_visual">
        <origin xyz="0.0 0.0 0.0" rpy="1.571 0.0 0.0"/>
        <geometry>
            <mesh filename="models/nadia_V16_description/meshes/sake_finger_knuckle.obj"/>
        </geometry>
    </visual>
</link>
<link name="LEFT_GRIPPER_ROLL2_TIP_LINK">
    <inertial>
        <mass value="0.05"/>
        <origin xyz="0.0 0.0 0.0" rpy="0.0 0.0 0.0"/>
        <inertia ixx="0.01" ixy="0.0" ixz="0.0" iyy="0.01" iyz="0.0" izz="0.01"/>
    </inertial>
    <visual name="LEFT_GRIPPER_ROLL1_LINK_visual">
        <origin xyz="0.0 0.0 0.0" rpy="1.571 0.0 0.0"/>
        <geometry>
            <mesh filename="models/nadia_V16_description/meshes/sake_finger_tip.obj"/>
        </geometry>
    </visual>
</link>
-->

<joint name="RIGHT_SHOULDER_Y" type="revolute">
    <origin xyz="0.001 -0.185 0.173" rpy="-0.785398163 0.0 0.785398163"   />
    <axis xyz="0.0 1.0 0.0" />
    <parent link="TORSO_LINK" />
    <child link="RIGHT_SHOULDER_PITCH_LINK" />
    <limit effort="1000" lower="-3.141592" upper="1.22173" velocity = "100" />
    <dynamics damping="0.05" friction="0.0"/>
</joint>
<joint name="RIGHT_SHOULDER_X" type="revolute">
    <origin rpy="0.785398163 0.0 0.0" xyz="0.0 -0.15676000 -0.01300000" />
    <axis xyz="1 0 0" />
    <parent link="RIGHT_SHOULDER_PITCH_LINK" />
    <child link="RIGHT_SHOULDER_ROLL_LINK" />
    <limit effort="1000" lower="-2.87979" upper="0.261799" velocity = "100" />
    <dynamics damping="0.05" friction="0.0"/>
</joint>
<joint name="RIGHT_SHOULDER_Z" type="revolute">
    <origin rpy="0.0 0.0 0.0" xyz="0.0 -0.035 0.0" />
    <axis xyz="0.0 0.0 1.0" />
    <parent link="RIGHT_SHOULDER_ROLL_LINK" />
    <child link="RIGHT_SHOULDER_YAW_LINK" />
    <limit effort="1000" lower="-1.22173" upper="1.91986" velocity = "100" />
    <dynamics damping="0.05" friction="0.0"/>
</joint>
<joint name="RIGHT_ELBOW_Y" type="revolute">
    <origin xyz="0.02 0.0 -0.4" rpy="0.0 0.0 0.0"/>
    <axis xyz="0.0 0.9999999995195001 3.099999998510451E-5"/>
    <parent link="RIGHT_SHOULDER_YAW_LINK"/>
    <child link="RIGHT_ELBOW_PITCH_LINK"/>
    <dynamics damping="0.05" friction="0.0"/>
    <limit effort="1000.0" lower="-2.79253" upper="0.1" velocity="100.0"/>
</joint>

<joint name="RIGHT_WRIST_Z" type="revolute">
    <origin xyz="-0.025 -0.025 0.0" rpy="0.0 0.0 -0.785398163"/>
    <axis xyz="-2.9999999972085003E-5 -3.0999999971154504E-5 0.9999999990695001"/>
    <parent link="RIGHT_ELBOW_PITCH_LINK"/>
    <child link="RIGHT_WRIST_YAW_LINK"/>
    <dynamics damping="0.05" friction="0.0"/>
    <limit effort="1000.0" lower="-1.5708" upper="2.35619" velocity="100.0"/>
</joint>
<joint name="RIGHT_WRIST_X" type="revolute">
    <origin xyz="0.0 0.0 -0.3515" rpy="0.0 0.0 0.0"/>
    <axis xyz="1.0 -0.0 0.0"/>
    <parent link="RIGHT_WRIST_YAW_LINK"/>
    <child link="RIGHT_WRIST_ROLL_LINK"/>
    <dynamics damping="0.05" friction="0.0"/>
    <limit effort="1000.0" lower="-2.61799" upper="2.61799" velocity="100.0"/>
</joint>
<joint name="RIGHT_WRIST_Y" type="revolute">
    <origin xyz="0.0 0.0 0.0" rpy="0.0 0.0 0.0"/>
    <axis xyz="0.0 1.0 0.0"/>
    <parent link="RIGHT_WRIST_ROLL_LINK"/>
    <child link="RIGHT_WRIST_PITCH_LINK"/>
    <dynamics damping="0.05" friction="0.0"/>
    <limit effort="1000.0" lower="-3.14159" upper="0.249066" velocity="100.0"/>
</joint>
<joint name="RIGHT_GRIPPER_X1" type="revolute">
    <origin xyz="0.0 0.03 -0.11" rpy="-0.25 0.0 0.0"/>
    <axis xyz="1.0 0.0 0.0"/>
    <parent link="RIGHT_WRIST_PITCH_LINK"/>
    <child link="RIGHT_GRIPPER_ROLL1_LINK"/>
    <dynamics damping="0.05" friction="0.0"/>
    <limit effort="1.0" lower="-0.06" upper="1.9" velocity="3.67"/>
</joint>
<joint name="RIGHT_GRIPPER_X1_TIP" type="revolute">
    <origin xyz="0.0 0.0 -0.052" rpy="0.0 0.0 0.0"/>
    <axis xyz="1.0 0.0 0.0"/>
    <parent link="RIGHT_GRIPPER_ROLL1_LINK"/>
    <child link="RIGHT_GRIPPER_ROLL1_TIP_LINK"/>
    <dynamics damping="0.05" friction="0.0"/>
    <limit effort="1.0" lower="-1.0" upper="0.0" velocity="3.67"/>
</joint>
<joint name="RIGHT_GRIPPER_X2" type="revolute">
    <origin xyz="0.0 -0.03 -0.11" rpy="0.25 0.0 0.0"/>
    <axis xyz="-1.0 0.0 0.0"/>
    <parent link="RIGHT_WRIST_PITCH_LINK"/>
    <child link="RIGHT_GRIPPER_ROLL2_LINK"/>
    <dynamics damping="0.05" friction="0.0"/>
    <limit effort="1.0" lower="-0.06" upper="1.9" velocity="3.67"/>
</joint>
<joint name="RIGHT_GRIPPER_X2_TIP" type="revolute">
    <origin xyz="0.0 0.0 -0.052" rpy="0.0 0.0 0.0"/>
    <axis xyz="-1.0 0.0 0.0"/>
    <parent link="RIGHT_GRIPPER_ROLL2_LINK"/>
    <child link="RIGHT_GRIPPER_ROLL2_TIP_LINK"/>
    <dynamics damping="0.05" friction="0.0"/>
    <limit effort="1.0" lower="-1.0" upper="0.0" velocity="3.67"/>
</joint>

<link name="RIGHT_SHOULDER_PITCH_LINK">
  <inertial>
    <mass value="2.917"/>
    <origin rpy="0 0 0" xyz="-0.00117 -0.1400097 -0.00621"/>
    <inertia ixx="0.0108367" ixy="1.356e-4" ixz="-2.666e-5" iyy="0.00498324" iyz="0.00090758" izz="0.01142661" />
  </inertial>
  <visual>
    <geometry>
      <mesh filename="package://nadia_V17_description/meshes/cycloidal_arm/RIGHT_SHOULDER_PITCH_LINK.obj"/>
    </geometry>
    <origin rpy="0.0 0.0 0.0" xyz="0.0 0.0 0.0"/>
  </visual>
</link>

<!-- RIGHT SHOULDER PITCH IMU Information -->
<joint name="RIGHT_SHOULDER_PITCH_IMU_JOINT" type="fixed">
	<origin rpy="-1.570796 1.570796 0" xyz="0.0174 -0.06944 -0.03025"/>
	<axis xyz="0 0 1"/>
	<parent link="RIGHT_SHOULDER_PITCH_LINK"/>
	<child link="RIGHT_SHOULDER_PITCH_IMU_LINK"/>
</joint>

<link name="RIGHT_SHOULDER_PITCH_IMU_LINK">
    <inertial>
      <mass value="0"/>
      <origin rpy="0 0 0" xyz="0 0 0"/>
      <inertia ixx="0.0" ixy="0.0" ixz="0.0" iyy="0.0" iyz="0.0" izz="0.0"/>
    </inertial>
</link>

<gazebo reference="RIGHT_SHOULDER_PITCH_IMU_LINK">
	<sensor name="right_shoulder_pitch_imu" type="imu">
	  <imuTransform>0.0174 0.06944 -0.03025 -1.570796 1.570796 0</imuTransform>
	  <always_on>true</always_on>
	  <pose>0 0 0 0 0 0 </pose>
	  <imu>
		<noise>
		  <type>gaussian</type>
		  <rate>
			<mean>0</mean>
			<stddev>0.0002</stddev>
			<bias_mean>7.5e-06</bias_mean>
			<bias_stddev>8e-07</bias_stddev>
		  </rate>
		  <accel>
			<mean>0</mean>
			<stddev>0.017</stddev>
			<bias_mean>0.1</bias_mean>
			<bias_stddev>0.001</bias_stddev>
		  </accel>
		</noise>
	  </imu>
	</sensor>
</gazebo>

<link name="RIGHT_SHOULDER_ROLL_LINK">
  <inertial>
    <mass value="1.17068"/>
    <origin rpy="0 0 0" xyz="-0.01053 -0.02124 -0.1052690"/>
    <inertia ixx="-0.00787035" ixy="-1.667e-4" ixz="-0.00075945" iyy="0.00727481" iyz="-0.000988837" izz="-0.00182144" />
  </inertial>
  <visual>
    <geometry>
      <mesh filename="package://nadia_V17_description/meshes/cycloidal_arm/RIGHT_SHOULDER_ROLL_LINK.obj"/>
    </geometry>
    <origin rpy="0.0 0.0 0.0" xyz="0.0 0.0 0.0"/>
  </visual>
</link>

<link name="RIGHT_SHOULDER_YAW_LINK">
  <inertial>
    <mass value="2.53059"/>
    <origin rpy="0 0 0" xyz="0.00479 0.00062 -0.3624141"/>
    <inertia ixx="0.02277422" ixy="5.053e-5" ixz="0.0012266" iyy="0.0225956" iyz="-2.571e-4" izz="0.00260312" />
  </inertial>
  <visual>
    <geometry>
      <mesh filename="package://nadia_V17_description/meshes/cycloidal_arm/RIGHT_SHOULDER_YAW_LINK.obj"/>
    </geometry>
    <origin rpy="0.0 0.0 0.0" xyz="0.0 0.0 0.0"/>
  </visual>
</link>

<!-- Right Shoulder Yaw IMU -->
<joint name="RIGHT_SHOULDER_YAW_IMU_JOINT" type="fixed">
	<origin rpy="-1.570796 3.1415926 -0.314159" xyz="-0.00763459 -0.0123324 -0.318"/>
	<axis xyz="0 0 1"/>
	<parent link="RIGHT_SHOULDER_YAW_LINK"/>
	<child link="RIGHT_SHOULDER_YAW_IMU_LINK"/>
</joint>

<link name="RIGHT_SHOULDER_YAW_IMU_LINK">
    <inertial>
      <mass value="0"/>
      <origin rpy="0 0 0" xyz="0 0 0"/>
      <inertia ixx="0.0" ixy="0.0" ixz="0.0" iyy="0.0" iyz="0.0" izz="0.0"/>
    </inertial>
 </link>

<gazebo reference="RIGHT_SHOULDER_YAW_IMU_LINK">
<sensor name="right_shoulder_yaw_imu" type="imu">
  <imuTransform>-0.00763459 -0.0123324 -0.318 -1.570796 3.1415926 -0.314159</imuTransform>
  <always_on>true</always_on>
  <pose>0 0 0 0 0 0 </pose>
  <imu>
	<noise>
	  <type>gaussian</type>
	  <rate>
		<mean>0</mean>
		<stddev>0.0002</stddev>
		<bias_mean>7.5e-06</bias_mean>
		<bias_stddev>8e-07</bias_stddev>
	  </rate>
	  <accel>
		<mean>0</mean>
		<stddev>0.017</stddev>
		<bias_mean>0.1</bias_mean>
		<bias_stddev>0.001</bias_stddev>
	  </accel>
	</noise>
  </imu>
</sensor>
</gazebo>

<link name="RIGHT_ELBOW_PITCH_LINK">
    <inertial>
        <mass value="0.212707"/>
        <origin xyz="-0.016863085413116777 -0.03149905494986441 -0.030486482391633037" rpy="0.0 0.0 0.0"/>
        <inertia ixx="2.2274276410737023E-4" ixy="-1.0685793135786208E-6" ixz="-4.606687916539878E-5" iyy="2.7198998468024087E-4" iyz="2.4945372225947213E-7" izz="1.1760725121238894E-4"/>
    </inertial>
    <visual name="RIGHT_ELBOW_PITCH_LINK_visual">
        <origin xyz="0.0 0.0 0.0" rpy="3.1E-5 -3.0E-5 -5.169878830782869E-26"/>
        <geometry>
            <mesh filename="models/nadia_V16_description/meshes/right_elbow_pitch.obj"/>
        </geometry>
    </visual>
</link>

<link name="RIGHT_WRIST_YAW_LINK">
    <inertial>
        <mass value="1.435"/>
        <origin xyz="-0.049390037537398915 -3.988388118063843E-4 -0.19874949425006477" rpy="0.0 0.0 0.0"/>
        <inertia ixx="0.02002873665345018" ixy="-5.206716925535244E-6" ixz="-0.003943968173753216" iyy="0.0214876033537945" iyz="-5.380647554156906E-5" izz="0.0029621799927553156"/>
    </inertial>
    <visual name="RIGHT_WRIST_YAW_LINK_visual">
        <origin xyz="0.0 0.0 0.0" rpy="3.1E-5 -3.0E-5 -5.169878830782869E-26"/>
        <geometry>
            <mesh filename="models/nadia_V16_description/meshes/right_wrist_yaw.obj"/>
        </geometry>
    </visual>
</link>
<link name="RIGHT_WRIST_ROLL_LINK">
    <inertial>
        <mass value="0.08878"/>
        <origin xyz="-0.03287204644112272 -0.01514504801172282 0.00154754434355909" rpy="0.0 0.0 0.0"/>
        <inertia ixx="1.654012061187089E-5" ixy="6.750050371017212E-6" ixz="-2.0106049461558907E-6" iyy="4.55099753408414E-5" iyz="3.979592309257661E-7" izz="4.367990404728772E-5"/>
    </inertial>
    <visual name="RIGHT_WRIST_ROLL_LINK_visual">
        <origin xyz="0.0 0.0 0.0" rpy="3.1E-5 -3.0E-5 -5.169878830782869E-26"/>
        <geometry>
            <mesh filename="models/nadia_V16_description/meshes/right_wrist_pitch.obj"/>
        </geometry>
    </visual>
</link>
<link name="RIGHT_WRIST_PITCH_LINK">
    <inertial>
        <mass value="0.8528"/>
        <origin xyz="0.007035401515470129 0.0014320850264847192 -0.04468074457742438" rpy="0.0 0.0 0.0"/>
        <inertia ixx="0.0026793735081112975" ixy="5.3914396871062444E-6" ixz="1.1589202029122785E-4" iyy="0.0026581929394452054" iyz="-5.480324126350978E-5" izz="6.730275524434961E-4"/>
    </inertial>
    <visual name="RIGHT_WRIST_PITCH_LINK_visual">
        <origin xyz="-0.0 0.0 0.0" rpy="-3.1E-5 3.0E-5 3.14155"/>
        <geometry>
            <mesh filename="models/nadia_V16_description/meshes/right_wrist_roll_gripper.obj"/>
        </geometry>
    </visual>
</link>

<link name="RIGHT_GRIPPER_ROLL1_LINK">
    <inertial>
        <mass value="0.05"/>
        <origin xyz="0.0 0.0 0.0" rpy="0.0 0.0 0.0"/>
        <inertia ixx="0.01" ixy="0.0" ixz="0.0" iyy="0.01" iyz="0.0" izz="0.01"/>
    </inertial>
    <visual name="RIGHT_GRIPPER_ROLL1_LINK_visual">
        <origin xyz="0.0 0.0 0.0" rpy="1.571 0.0 3.142"/>
        <geometry>
            <mesh filename="models/nadia_V16_description/meshes/sake_finger_knuckle.obj"/>
        </geometry>
    </visual>
</link>
<link name="RIGHT_GRIPPER_ROLL1_TIP_LINK">
    <inertial>
        <mass value="0.05"/>
        <origin xyz="0.0 0.0 0.0" rpy="0.0 0.0 0.0"/>
        <inertia ixx="0.01" ixy="0.0" ixz="0.0" iyy="0.01" iyz="0.0" izz="0.01"/>
    </inertial>
    <visual name="RIGHT_GRIPPER_ROLL1_LINK_visual">
        <origin xyz="0.0 0.0 0.0" rpy="1.571 0.0 3.142"/>
        <geometry>
            <mesh filename="models/nadia_V16_description/meshes/sake_finger_tip.obj"/>
        </geometry>
    </visual>
</link>
<link name="RIGHT_GRIPPER_ROLL2_LINK">
    <inertial>
        <mass value="0.05"/>
        <origin xyz="0.0 0.0 0.0" rpy="0.0 0.0 0.0"/>
        <inertia ixx="0.01" ixy="0.0" ixz="0.0" iyy="0.01" iyz="0.0" izz="0.01"/>
    </inertial>
    <visual name="RIGHT_GRIPPER_ROLL2_LINK_visual">
        <origin xyz="0.0 0.0 0.0" rpy="1.571 0.0 0.0"/>
        <geometry>
            <mesh filename="models/nadia_V16_description/meshes/sake_finger_knuckle.obj"/>
        </geometry>
    </visual>
</link>
<link name="RIGHT_GRIPPER_ROLL2_TIP_LINK">
    <inertial>
        <mass value="0.05"/>
        <origin xyz="0.0 0.0 0.0" rpy="0.0 0.0 0.0"/>
        <inertia ixx="0.01" ixy="0.0" ixz="0.0" iyy="0.01" iyz="0.0" izz="0.01"/>
    </inertial>
    <visual name="RIGHT_GRIPPER_ROLL1_LINK_visual">
        <origin xyz="0.0 0.0 0.0" rpy="1.571 0.0 0.0"/>
        <geometry>
            <mesh filename="models/nadia_V16_description/meshes/sake_finger_tip.obj"/>
        </geometry>
    </visual>
</link>

</robot>
